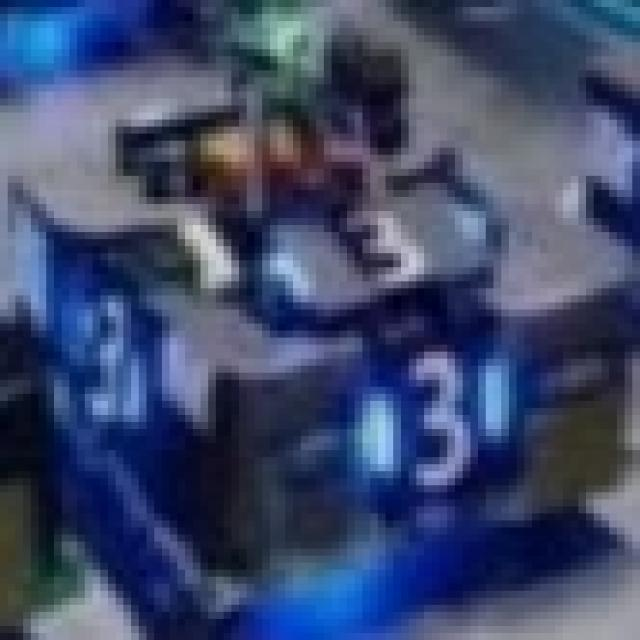B3: (355, 338, 501, 478), (46, 281, 154, 436)
